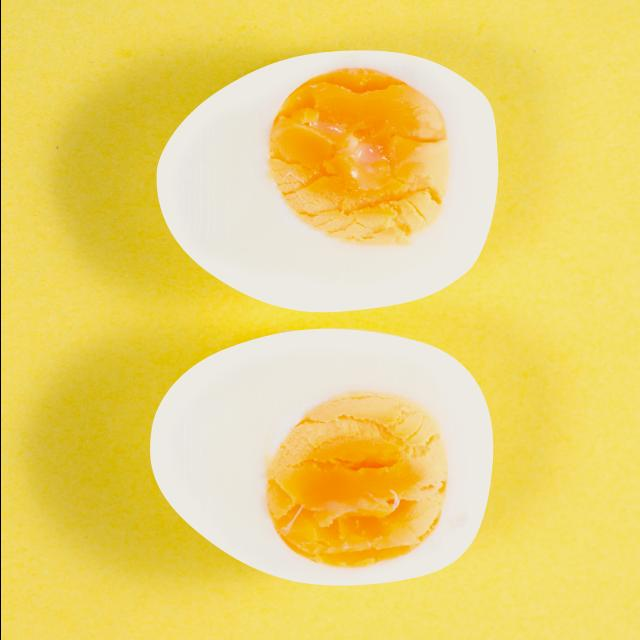telur rebus: (152, 50, 496, 312), (147, 329, 491, 588)
